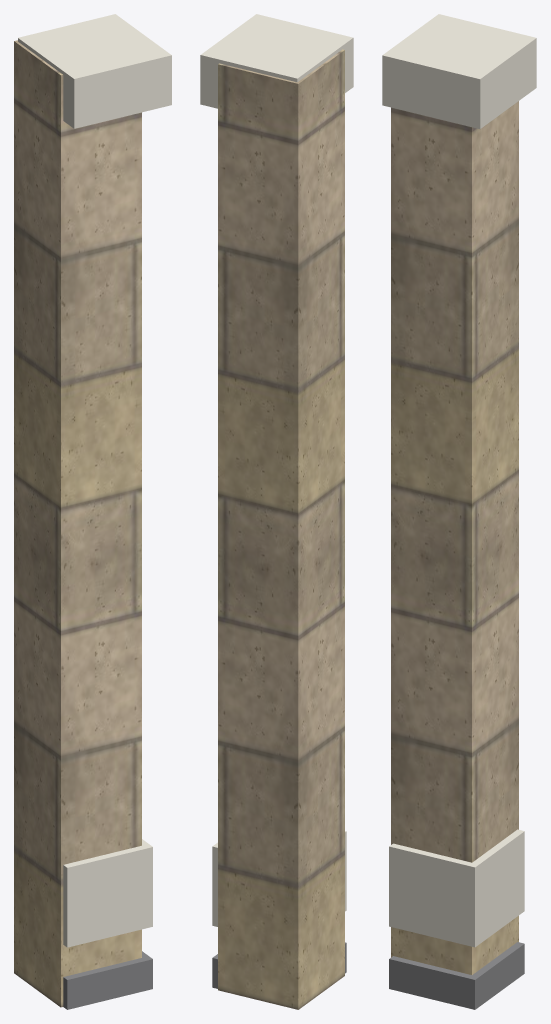
The model's file is corner_ground.glb.
3 renders of one model, left to right at view 1: azimuth 30°, elevation 25°; view 2: azimuth 150°, elevation 25°; view 3: azimuth 330°, elevation 25°, orthographic.
Visible parts, largest first — view 1: corner_ground_rustic, corner_ground_trim, corner_ground_dark; view 2: corner_ground_rustic, corner_ground_trim; view 3: corner_ground_rustic, corner_ground_trim, corner_ground_dark.
Part boxes in pixels (x1,y1,x2,y2): corner_ground_rustic: (14, 40, 141, 1007); corner_ground_trim: (18, 14, 171, 947); corner_ground_dark: (63, 951, 152, 1009); corner_ground_rustic: (218, 49, 344, 1009); corner_ground_trim: (200, 14, 353, 926); corner_ground_rustic: (391, 101, 518, 974); corner_ground_trim: (382, 14, 536, 947); corner_ground_dark: (389, 942, 524, 1009).
Size of the model in its own units: 0.42 by 3.76 by 0.42.
3 materials, 1 textured.
